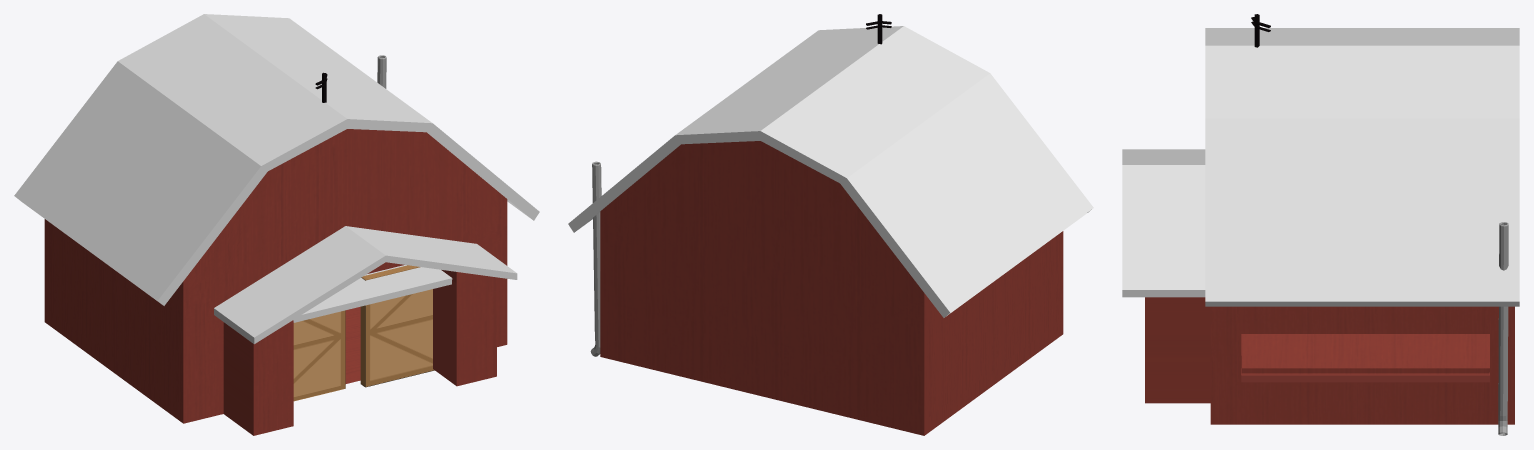
The model's file is Red_Barn_With_Doors.fbx.
The picture shows the model from 3 angles, left to right: view 1: azimuth 30°, elevation 25°; view 2: azimuth 150°, elevation 25°; view 3: azimuth 270°, elevation 25°; orthographic projection. The views are drawn at different scales.
Parts seen in each view (by area): view 1: BarnBody, BarnCeiling, EntryArch, RightDoor, LeftDoor, DoorTopper; view 2: BarnBody, BarnCeiling, Pipe; view 3: BarnCeiling, BarnBody, EntryArch, Pipe.
Part boxes in pixels (<box>): BarnBody: <box>44,129,507,435</box>; BarnCeiling: <box>14,14,539,305</box>; EntryArch: <box>214,226,517,344</box>; RightDoor: <box>360,265,434,387</box>; LeftDoor: <box>293,310,345,401</box>; DoorTopper: <box>293,265,452,322</box>; BarnBody: <box>600,141,1063,435</box>; BarnCeiling: <box>568,26,1093,317</box>; Pipe: <box>590,161,601,356</box>; BarnCeiling: <box>1205,28,1519,306</box>; BarnBody: <box>1145,297,1514,424</box>; EntryArch: <box>1122,149,1205,297</box>; Pipe: <box>1498,222,1508,435</box>.
Bounding box in the file's own units: 4084 × 3071 × 3358.
Materials: 5 (3 with a texture image).
